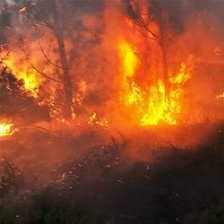fire: (1, 25, 222, 144)
